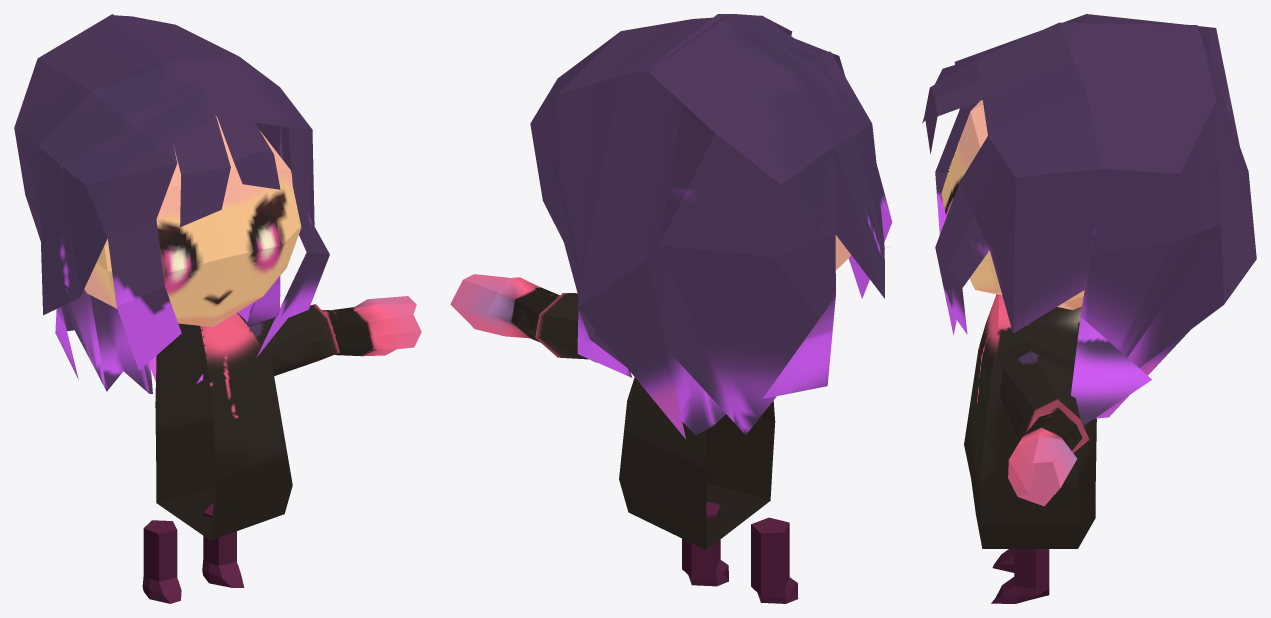
Rendered from character_3.glb.
3 views of the same model, side by side, from view 1: azimuth 30°, elevation 25°; view 2: azimuth 150°, elevation 25°; view 3: azimuth 270°, elevation 25° (orthographic). The views are drawn at different scales.
Parts seen in each view (by area): view 1: Cube.002, Cube.001, Cube, Cylinder.001, Cylinder.002; view 2: Cube.002, Cube.001, Cylinder.001, Cylinder.002; view 3: Cube.002, Cube.001, Cube, Cylinder.002.
Boxes of the visible parts, x1=… form: Cube.002: x1=14, y1=14, x2=329, y2=393; Cube.001: x1=155, y1=296, x2=421, y2=540; Cube: x1=84, y1=115, x2=301, y2=327; Cylinder.001: x1=142, y1=520, x2=181, y2=603; Cylinder.002: x1=202, y1=504, x2=244, y2=587; Cube.002: x1=530, y1=14, x2=892, y2=438; Cube.001: x1=450, y1=274, x2=775, y2=550; Cylinder.001: x1=751, y1=517, x2=798, y2=603; Cylinder.002: x1=682, y1=501, x2=728, y2=586; Cube.002: x1=922, y1=14, x2=1256, y2=425; Cube.001: x1=964, y1=294, x2=1096, y2=548; Cube: x1=941, y1=100, x2=1084, y2=309; Cylinder.002: x1=991, y1=549, x2=1049, y2=603.
Bounding box in the file's own units: 4.06 × 5.29 × 2.87.
Materials: 3 (1 with a texture image).
